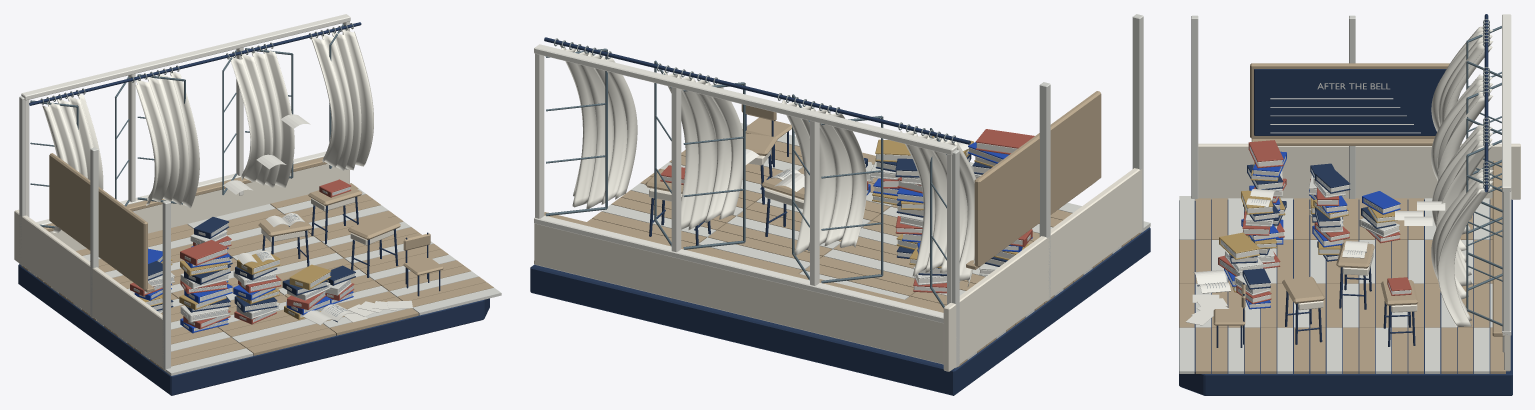
File: summer-classroom-v7.glb
3 views of the same model, side by side, from view 1: azimuth 30°, elevation 25°; view 2: azimuth 150°, elevation 25°; view 3: azimuth 270°, elevation 25° (orthographic). The views are drawn at different scales.
Visible parts, largest first — view 1: Classroom_Parquet, Classroom_ClosedBooks, Classroom_Walls, Classroom_Foundation, Classroom_WindowFrame, Classroom_Chalkboard, Motion_Curtain_B, Motion_Curtain_D, Motion_Curtain_C, Classroom_WindowWall, Classroom_WritingDesks, Motion_Curtain_A (+6 smaller); view 2: Classroom_Walls, Classroom_Foundation, Classroom_Parquet, Classroom_WindowWall, Classroom_WindowFrame, Classroom_Chalkboard, Classroom_ClosedBooks, Motion_Curtain_C, Motion_Curtain_D, Motion_Curtain_B, Motion_Curtain_A, Classroom_OpenCasements (+4 smaller); view 3: Classroom_Parquet, Classroom_Chalkboard, Classroom_Walls, Classroom_ClosedBooks, Classroom_Foundation, Classroom_WindowFrame, Classroom_WritingDesks, Motion_Curtain_D, Motion_Curtain_C, Motion_Curtain_B, Motion_Curtain_A, Classroom_OpenCasements (+6 smaller).
Boxes of the visible parts, x1,y1,x2,y2 form: Classroom_Parquet: (21,183,501,375); Classroom_ClosedBooks: (130,179,355,333); Classroom_Walls: (14,96,170,370); Classroom_Foundation: (18,264,489,395); Classroom_WindowFrame: (21,14,350,231); Classroom_Chalkboard: (49,153,154,292); Motion_Curtain_B: (135,71,199,208); Motion_Curtain_D: (311,29,373,170); Motion_Curtain_C: (229,49,294,187); Classroom_WindowWall: (49,164,349,251); Classroom_WritingDesks: (258,182,400,277); Motion_Curtain_A: (42,94,103,233); Classroom_Walls: (943,14,1143,371); Classroom_Foundation: (530,227,1150,395); Classroom_Parquet: (534,123,1150,367); Classroom_WindowWall: (534,223,943,364); Classroom_WindowFrame: (534,44,956,323); Classroom_Chalkboard: (966,91,1101,269); Classroom_ClosedBooks: (660,129,1034,293); Motion_Curtain_C: (663,70,742,230); Motion_Curtain_D: (560,45,637,208); Motion_Curtain_B: (782,99,866,255); Motion_Curtain_A: (900,131,976,286); Classroom_OpenCasements: (545,48,946,308); Classroom_Parquet: (1179,196,1505,373); Classroom_Chalkboard: (1250,63,1449,145); Classroom_Walls: (1191,15,1520,200); Classroom_ClosedBooks: (1218,140,1411,309); Classroom_Foundation: (1179,199,1512,395); Classroom_WindowFrame: (1492,14,1511,352); Classroom_WritingDesks: (1282,242,1418,346); Motion_Curtain_D: (1431,168,1493,327); Motion_Curtain_C: (1432,125,1492,286); Motion_Curtain_B: (1431,74,1492,234); Motion_Curtain_A: (1431,26,1493,146); Classroom_OpenCasements: (1466,26,1502,326).
Size of the model in its own units: 13.2 by 7.3 by 10.85.
